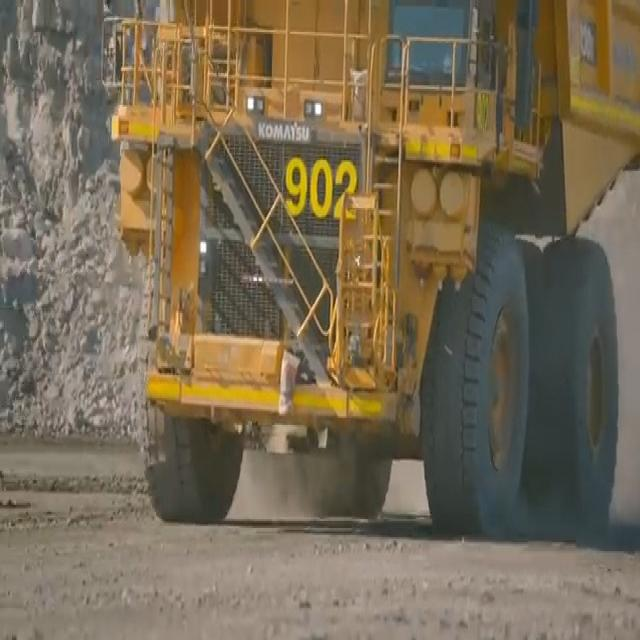dump_truck: (97, 0, 640, 528)
